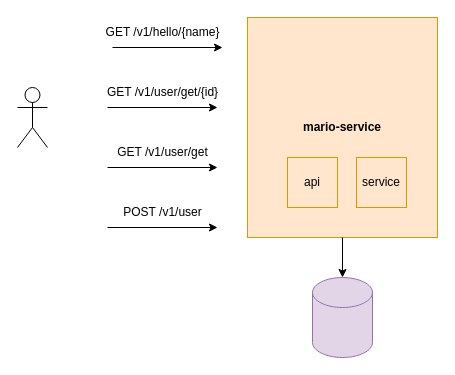
This 455x375 diagram has some shape labels left out. Here are the shapes that lost their labels. From the top down, the centre of each, then its label:
pixel 32 117: User
pixel 342 317: H2
